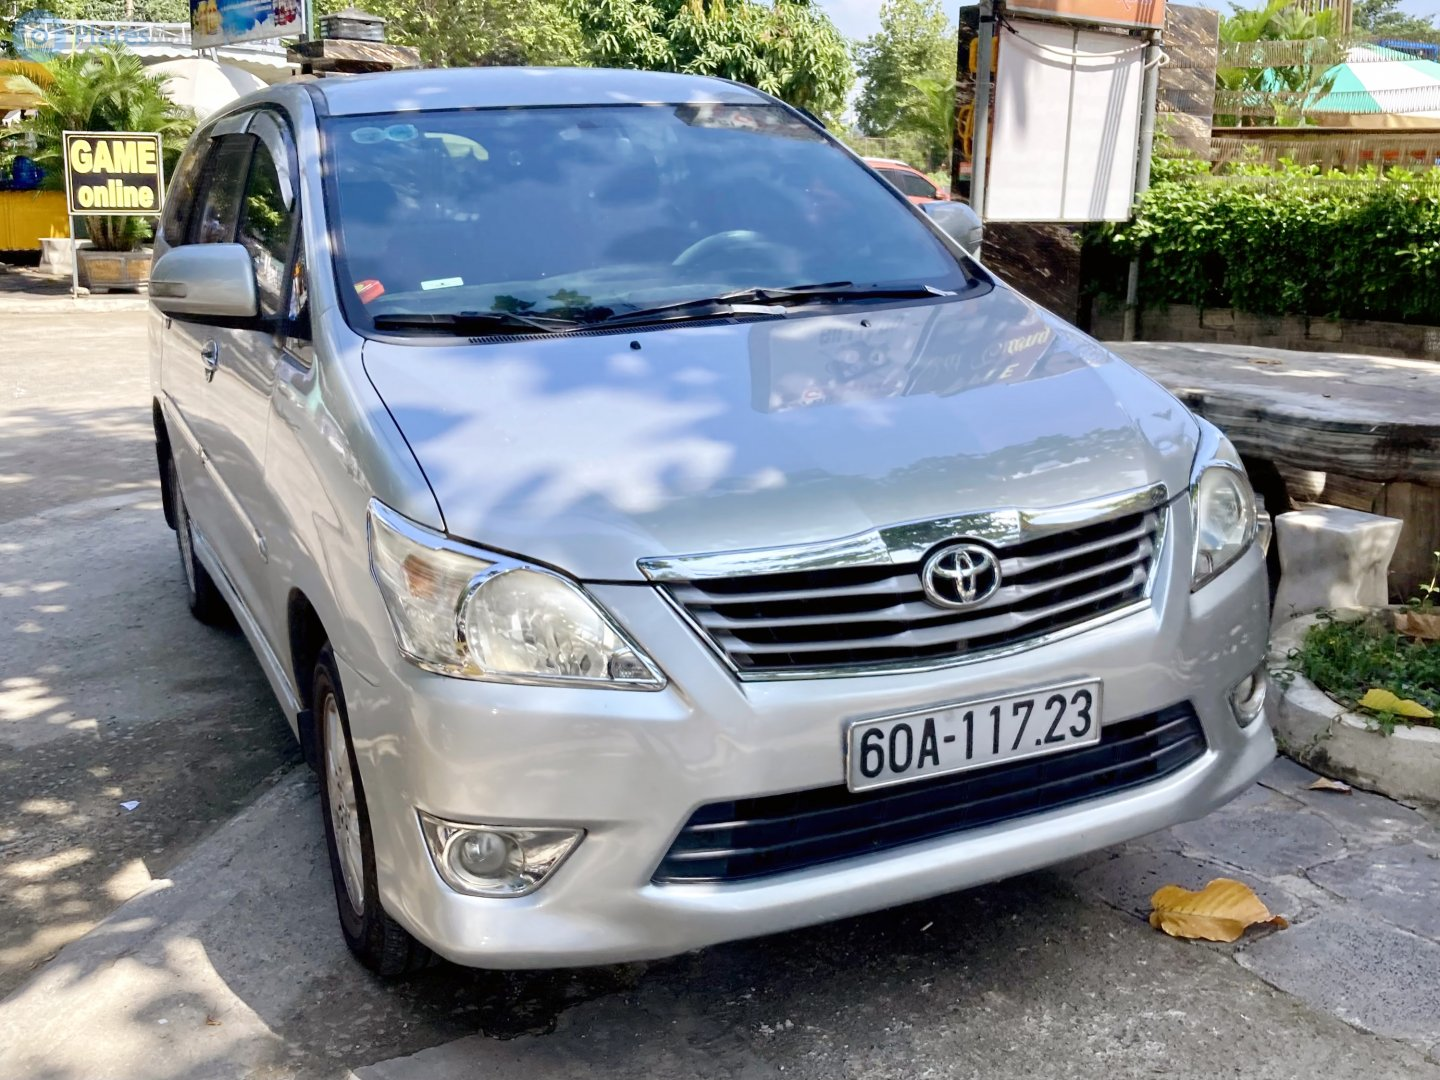bien_so: (849, 681, 1101, 792)
